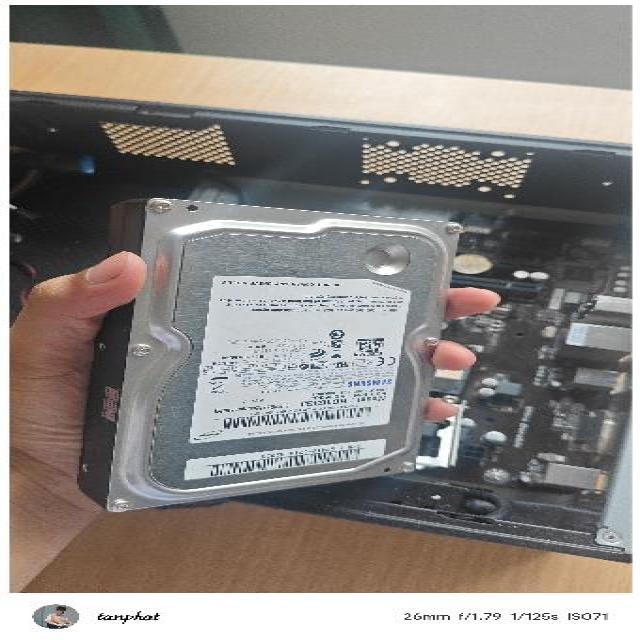DISK: (69, 196, 466, 513)
